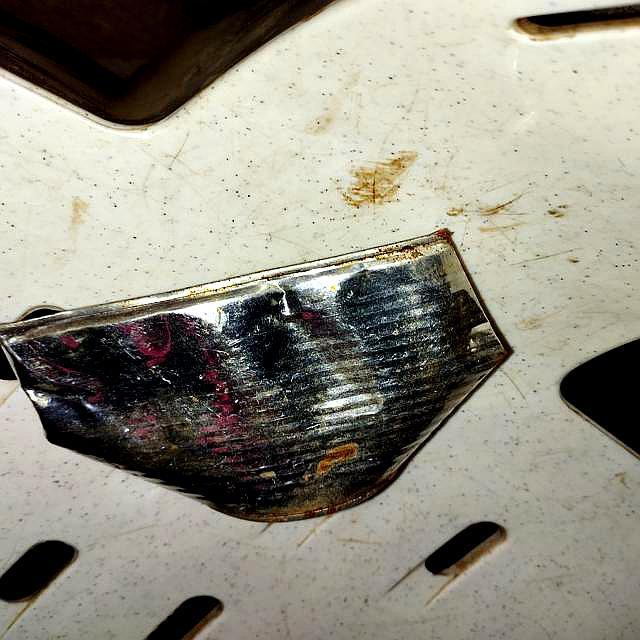Non-biodegradable: (2, 226, 515, 525)
